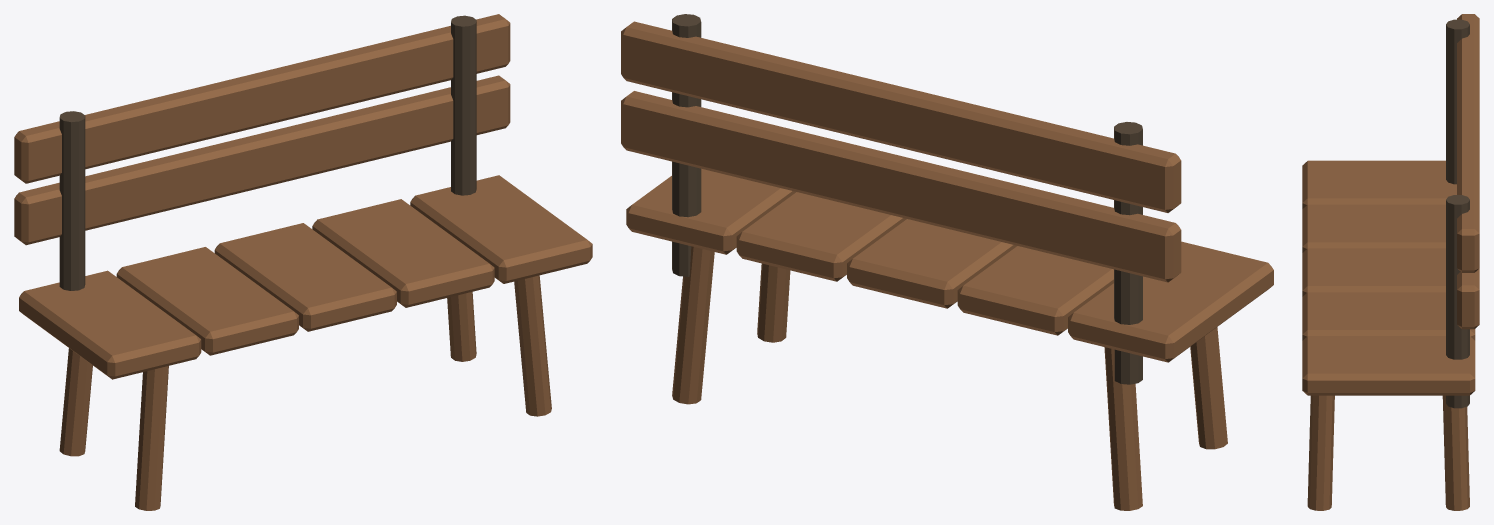
File: Garden_Bench_A.glb
The picture shows the model from 3 angles, left to right: view 1: azimuth 30°, elevation 25°; view 2: azimuth 150°, elevation 25°; view 3: azimuth 270°, elevation 25°; orthographic projection. The views are drawn at different scales.
Parts seen in each view (by area): view 1: Garden_Bench_A; view 2: Garden_Bench_A; view 3: Garden_Bench_A.
Part boxes in pixels (x1,y1,x2,y2): Garden_Bench_A: (14,14,592,510); Garden_Bench_A: (621,14,1273,510); Garden_Bench_A: (1302,14,1479,510).
Bounding box in the file's own units: 1.5 × 0.9829 × 0.5125.
